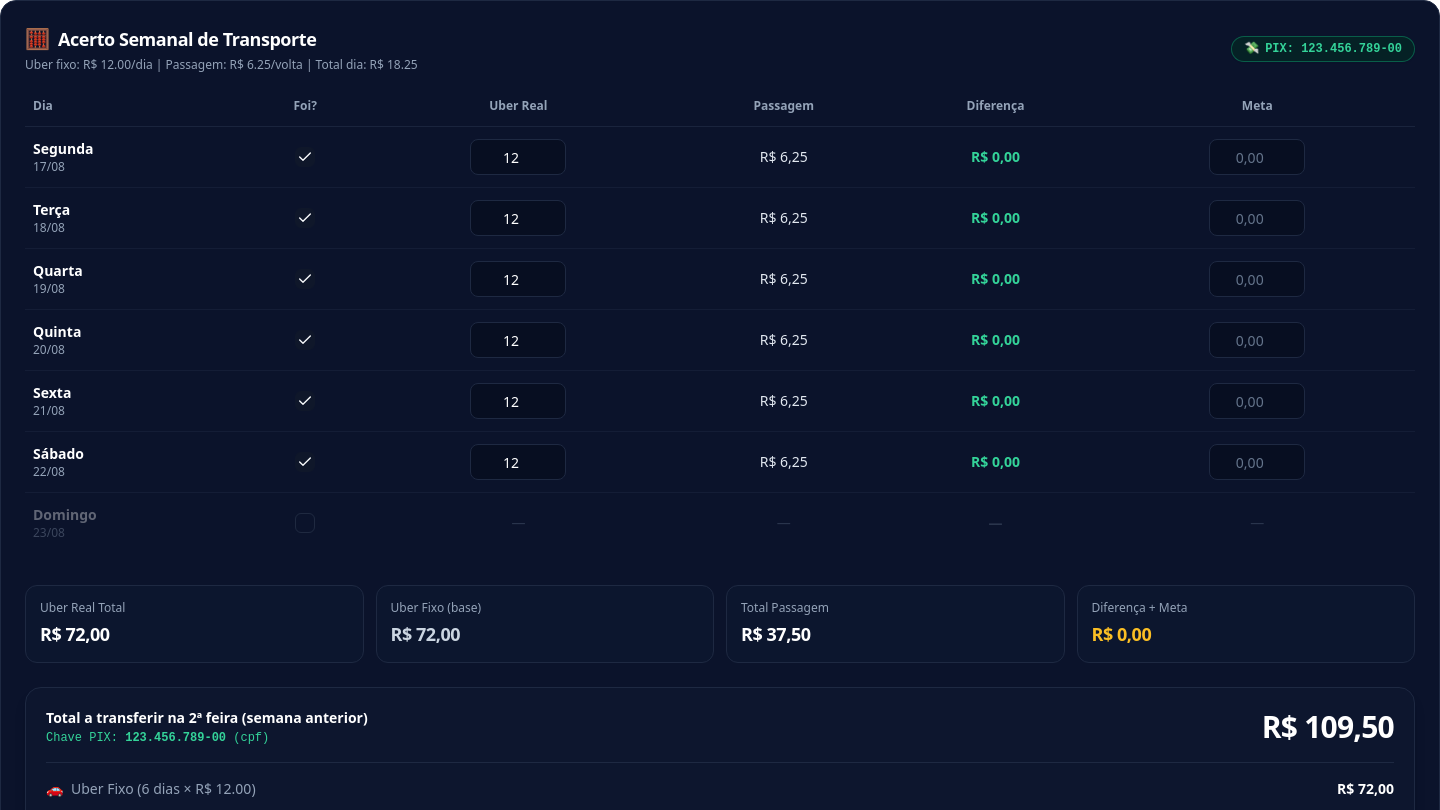
Test case: AcertoSemanalFuncionario › mostra Uber base, passagem, diferenca e meta sem misturar o relatorio
Replace the text in the number field named "Uber real de Segunda" with "13.92": (518,157) [470,139,566,175]
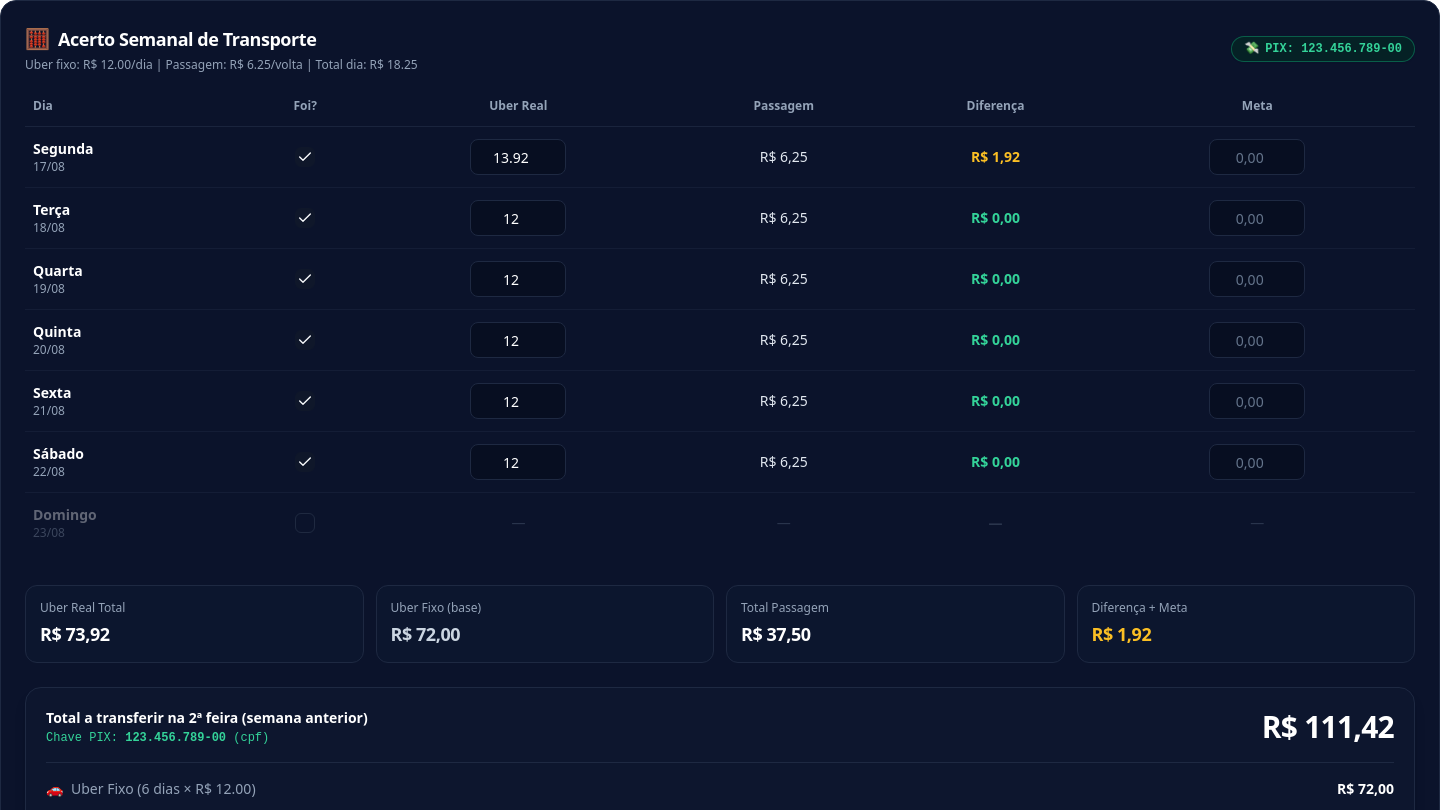
Expected: the column heading "Diferença" is shown, [891,97,1100,126]
Result: the text "R$ 1,92" in the row of "Segunda" is shown at [971,147,1020,166]
